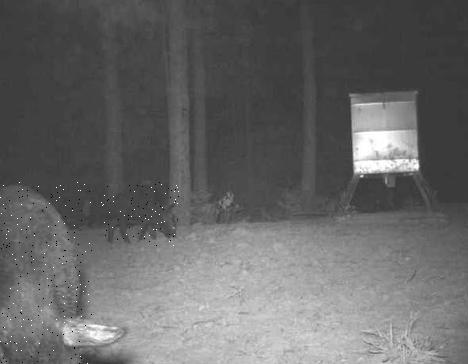Hog: (0, 182, 92, 364), (100, 182, 179, 246)
